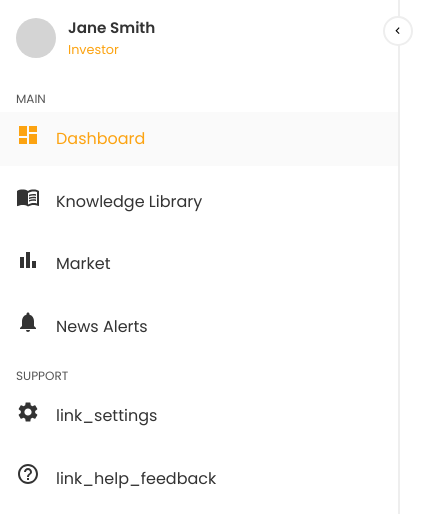
Test: Sidebar Component › toggle collapse hides labels and section titles
Click the button named "Collapse" at (398, 31), box 383,16 -> 413,46
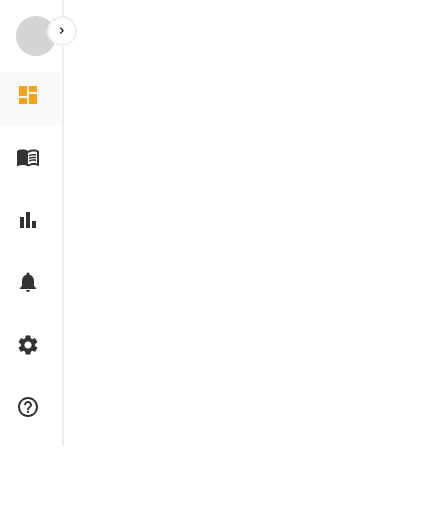
Now the text "Main" is gone
Now the text "Dashboard" is gone
